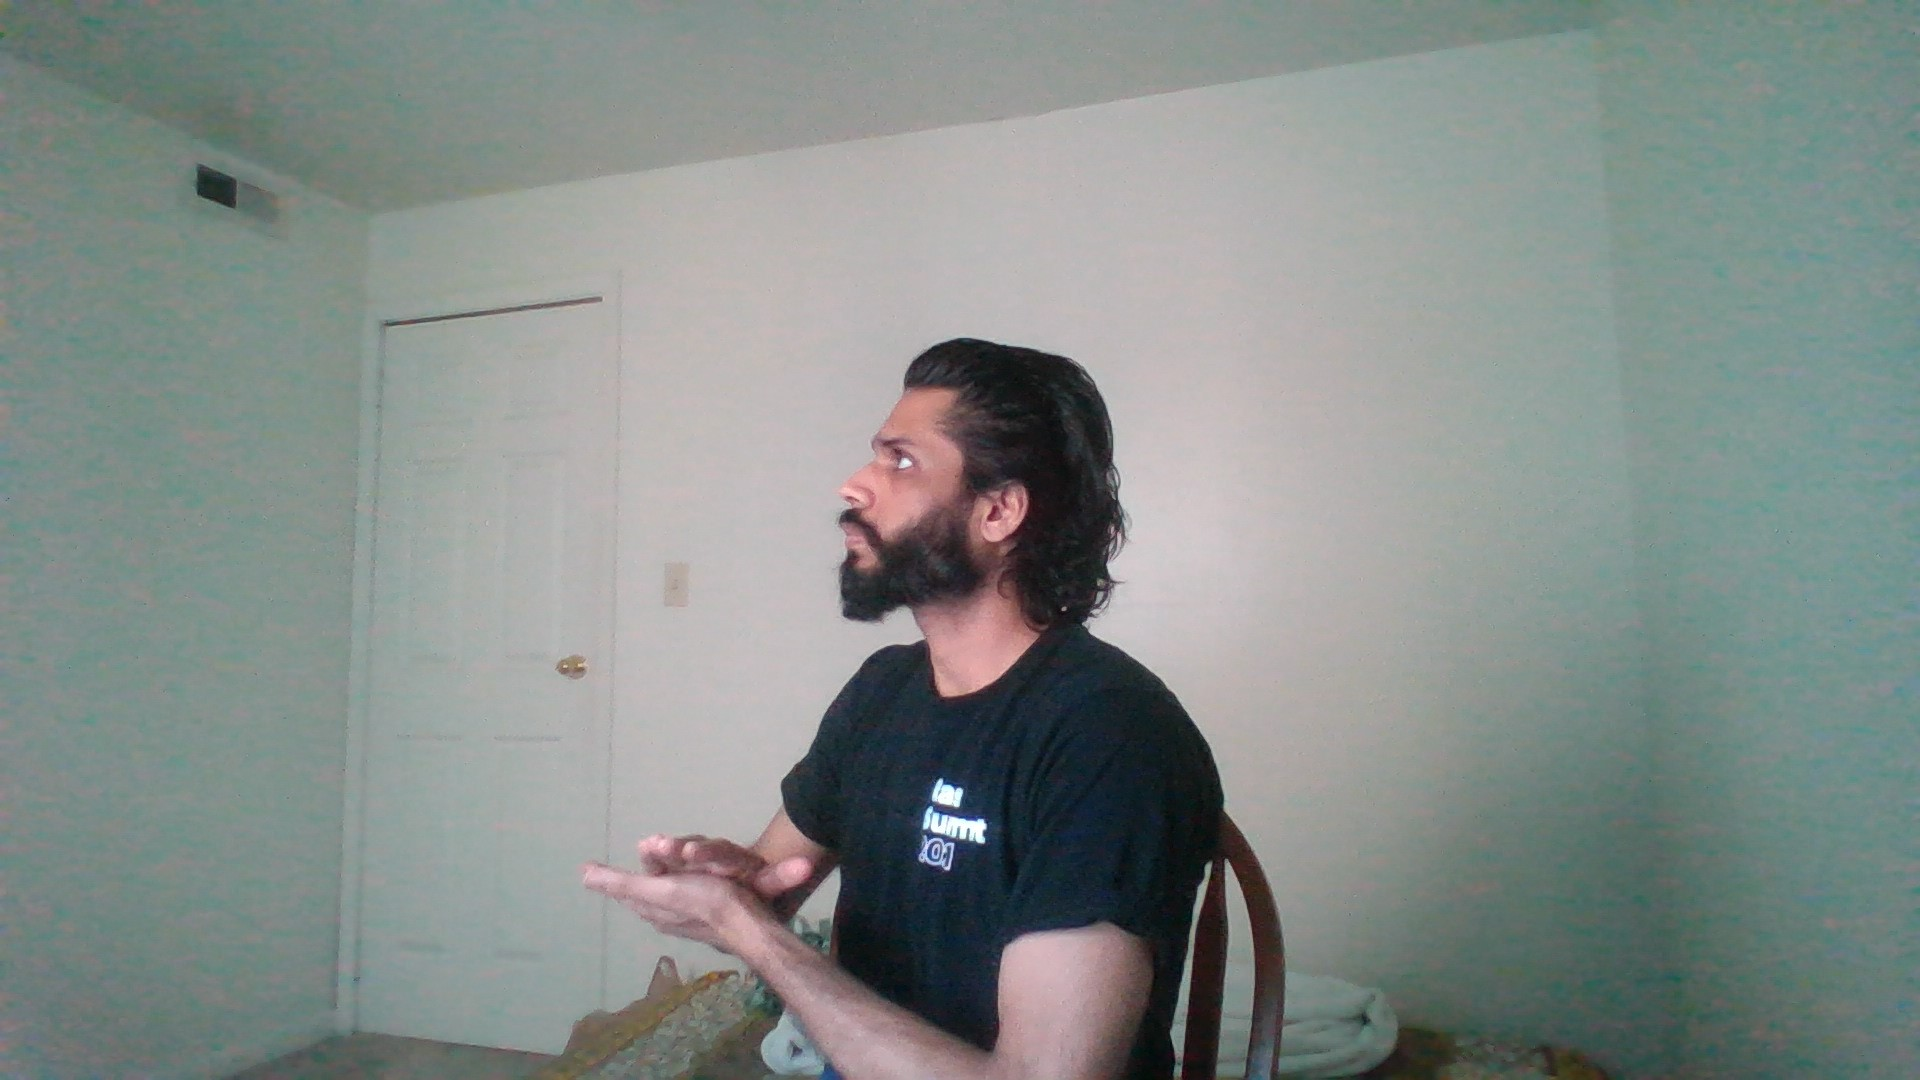Cheese: (526, 785, 905, 1011)
